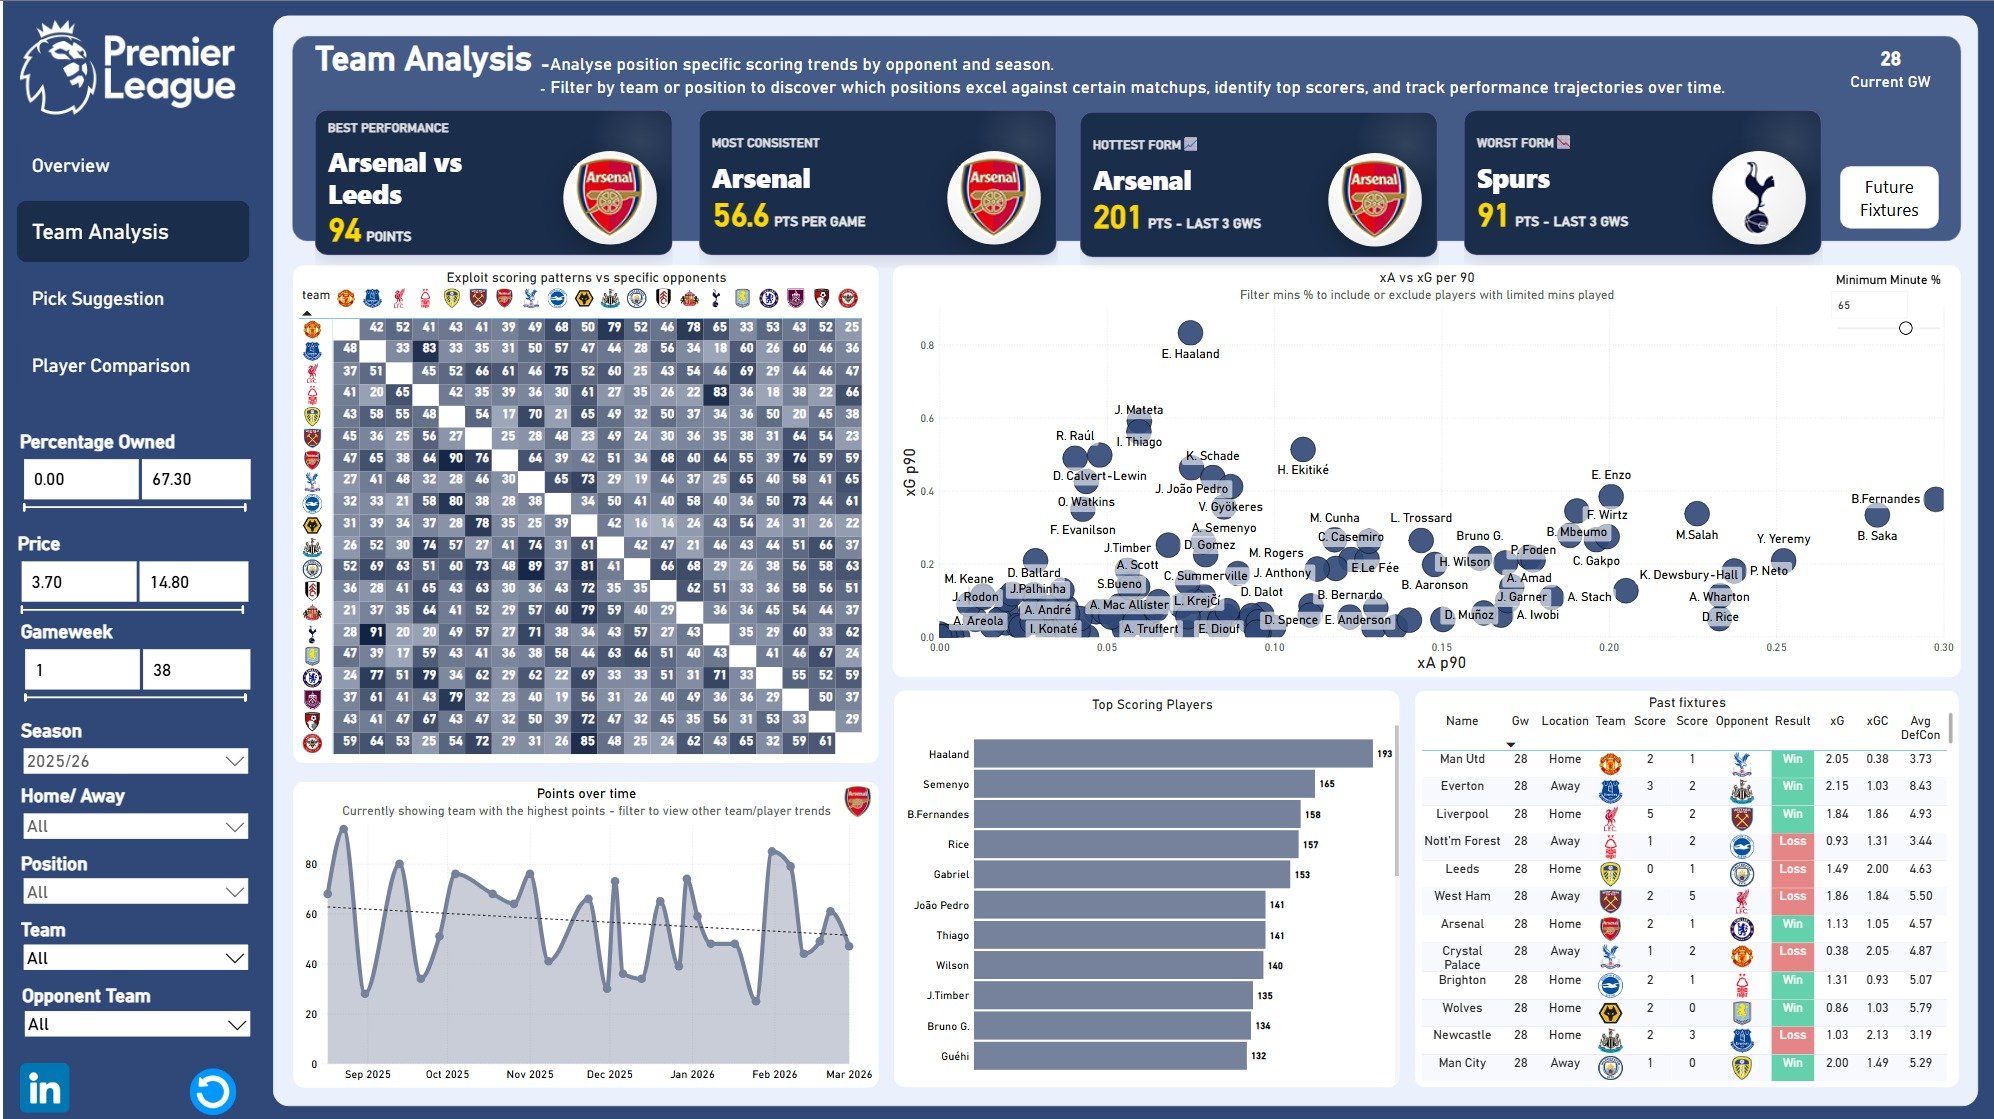

What the dashboard file says about the page in this screenshot:
{"tool":"powerbi","page":{"name":"Team Analysis","canvas":[3840,2160],"ordinal":1},"visuals":[{"type":"shape","box":[522,28,3290,2104],"z":0},{"type":"image","box":[32,0,416,256],"z":1000},{"type":"shape","box":[557,68,3220,396],"z":2000},{"type":"slicer","title":"Price","fields":{"Values":["FactTable.value"]},"box":[29,1020,450,195],"z":3000},{"type":"group","id":"g1","title":"Group 1","box":[34,1190,450,705],"z":4000},{"type":"image","box":[32,2048,96,96],"z":5000},{"type":"textbox","box":[596.7,66.7,2950,170],"z":6000},{"type":"slicer","title":"Percentage Owned","fields":{"Values":["FactTable.selected_by_percent"]},"box":[33.3,823.3,450,196.7],"z":7000},{"type":"pivotTable","title":"Exploit scoring patterns vs specific opponents","fields":{"Rows":["teams.badge_url"],"Columns":["opponent teams.opponent badge"],"Values":["measures_.team_vs_team_avgpoints"]},"box":[560,510,1130,960],"z":8000},{"type":"areaChart","title":"Points over time","fields":{"Y":["Sum(FactTable.total_points)"],"Series":["teams.team_name"],"Category":["date.Date.Variation.Date Hierarchy.Year","date.Date.Variation.Date Hierarchy.Quarter","date.Date.Variation.Date Hierarchy.Month","date.Date.Variation.Date Hierarchy.Day"]},"box":[560,1506.7,1130,590],"z":9000},{"type":"clusteredBarChart","title":"Top Scoring Players","fields":{"Category":["players.web_name"],"Y":["Sum(FactTable.total_points)"]},"box":[1720,1330,975,765],"z":10000},{"type":"tableEx","title":"Past fixtures","fields":{"Values":["teams.team_name","FactTable.gameweek","home/away.home/away","teams.badge_url","measures_.goalsfor","measures_.goalsconceded","opponent teams.opponent badge","measures_.result","Sum(FactTable.xG)","Max(FactTable.xGC)","measures_.avg_defcon"]},"box":[2725,1330,1050,765],"z":11000},{"type":"slicer","title":"Opponent Team","fields":{"Values":["opponent teams.opponent_name"]},"box":[36.7,1893.3,450,130],"z":12000},{"type":"scatterChart","title":"xA vs xG per 90","fields":{"X":["Min Minutes%.xA Filter"],"Y":["Min Minutes%.xG Filter"],"Category":["players.display_name"]},"box":[1717.5,510,2060,795],"z":13000},{"type":"slicer","title":"Minimum Minute %","fields":{"Values":["Min Minutes%.Min Minutes%"]},"box":[3513.3,523.3,246.7,146.7],"z":14000},{"type":"htmlContent443BE3AD55E043BF878BED274D3A6855","fields":{"content":["measures_.topteamlogo"]},"box":[1610,1506.7,80,93.3],"z":15000},{"type":"htmlContent443BE3AD55E043BF878BED274D3A6855","fields":{"content":["measures_.best_performance_htmlkpi"]},"box":[596,205,700,312],"z":16000},{"type":"htmlContent443BE3AD55E043BF878BED274D3A6855","fields":{"content":["measures_.mostconsistent_htmlkpi"]},"box":[1337.4,203.4,701.2,316],"z":17000},{"type":"htmlContent443BE3AD55E043BF878BED274D3A6855","fields":{"content":["measures_.worst_last_3"]},"box":[2813.4,203.4,701.2,311.6],"z":18000},{"type":"slicer","title":"Season","fields":{"Values":["season.season"]},"box":[34,1382,448,128],"z":18000,"group":"g1"},{"type":"htmlContent443BE3AD55E043BF878BED274D3A6855","fields":{"content":["measures_.best_last3_html"]},"box":[2073.2,207.8,701.2,316],"z":19000},{"type":"slicer","title":"Position","fields":{"Values":["Position.Position"]},"box":[34,1638,448,128],"z":19000,"group":"g1"},{"type":"pageNavigator","box":[26.7,256.7,450,506.7],"z":20000},{"type":"slicer","title":"Home/ Away","fields":{"Values":["home/away.home/away"]},"box":[34,1507.7,448,128],"z":20000,"group":"g1"},{"type":"card","fields":{"Values":["measures_._gw"]},"box":[3546.7,70,190,110],"z":21000},{"type":"slicer","title":"Gameweek","fields":{"Values":["gw.gw"]},"box":[34,1190,448,192],"z":21000,"group":"g1"},{"type":"image","box":[359.6,2049.4,89.9,111.5],"z":22000},{"type":"slicer","title":"Team ","fields":{"Values":["teams.team_name"]},"box":[34,1766,448,128],"z":23000,"group":"g1"},{"type":"shape","box":[3545,320,190,120],"z":30000}]}

Visuals, with their boxes on the page's 3840x2160 design canvas (x1, y1, x2, y2). These are canvas units, not pixel positions in the 1994x1119 screenshot, which may show the page scaled, cropped or inside an application window:
shape: [522, 28, 3812, 2132]
image: [32, 0, 448, 256]
shape: [557, 68, 3777, 464]
"Price" slicer: [29, 1020, 479, 1215]
"Group 1" group: [34, 1190, 484, 1895]
image: [32, 2048, 128, 2144]
textbox: [597, 67, 3547, 237]
"Percentage Owned" slicer: [33, 823, 483, 1020]
"Exploit scoring patterns vs specific opponents" pivotTable: [560, 510, 1690, 1470]
"Points over time" areaChart: [560, 1507, 1690, 2097]
"Top Scoring Players" clusteredBarChart: [1720, 1330, 2695, 2095]
"Past fixtures" tableEx: [2725, 1330, 3775, 2095]
"Opponent Team" slicer: [37, 1893, 487, 2023]
"xA vs xG per 90" scatterChart: [1718, 510, 3778, 1305]
"Minimum Minute %" slicer: [3513, 523, 3760, 670]
htmlContent443BE3AD55E043BF878BED274D3A6855 - measures_.topteamlogo: [1610, 1507, 1690, 1600]
htmlContent443BE3AD55E043BF878BED274D3A6855 - measures_.best_performance_htmlkpi: [596, 205, 1296, 517]
htmlContent443BE3AD55E043BF878BED274D3A6855 - measures_.mostconsistent_htmlkpi: [1337, 203, 2039, 519]
htmlContent443BE3AD55E043BF878BED274D3A6855 - measures_.worst_last_3: [2813, 203, 3515, 515]
"Season" slicer: [34, 1382, 482, 1510]
htmlContent443BE3AD55E043BF878BED274D3A6855 - measures_.best_last3_html: [2073, 208, 2774, 524]
"Position" slicer: [34, 1638, 482, 1766]
pageNavigator: [27, 257, 477, 763]
"Home/ Away" slicer: [34, 1508, 482, 1636]
card - measures_._gw: [3547, 70, 3737, 180]
"Gameweek" slicer: [34, 1190, 482, 1382]
image: [360, 2049, 450, 2161]
"Team " slicer: [34, 1766, 482, 1894]
shape: [3545, 320, 3735, 440]
